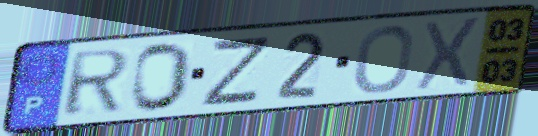2: (273, 30, 328, 101)
O: (128, 40, 195, 115), (351, 22, 417, 96)
R: (60, 47, 133, 120)
X: (412, 14, 485, 93)
Z: (197, 33, 276, 109)
